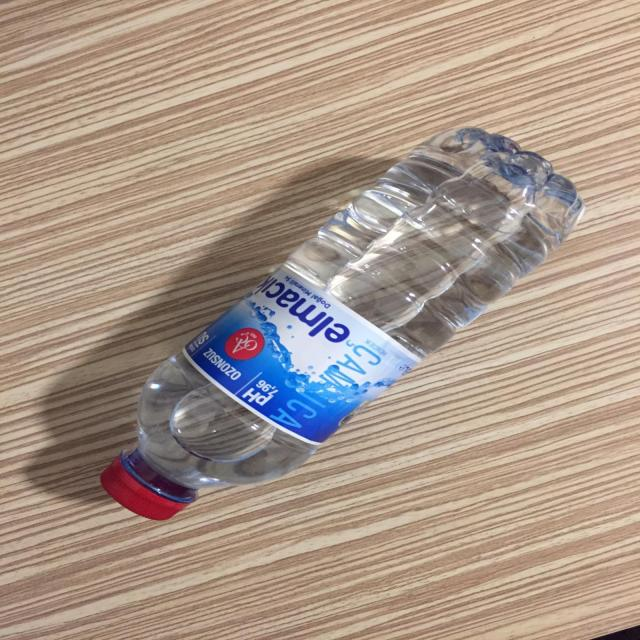bottle: (81, 99, 596, 532)
